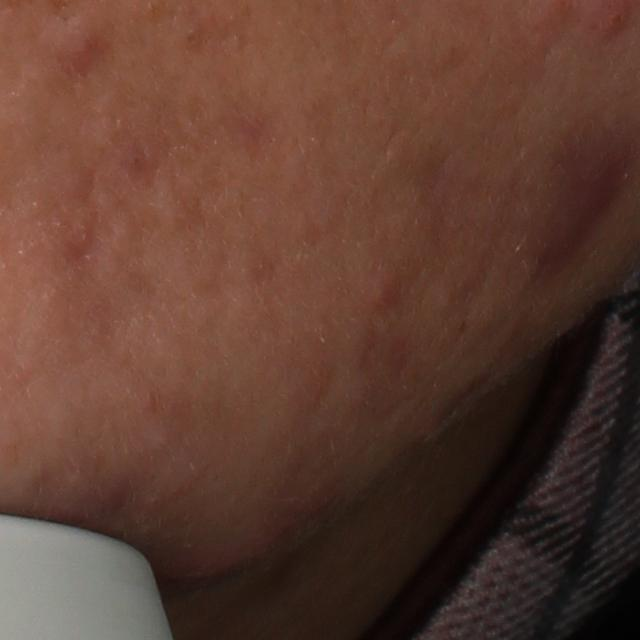nodule: (528, 134, 628, 274)
papule: (63, 19, 105, 71), (361, 276, 397, 311)
